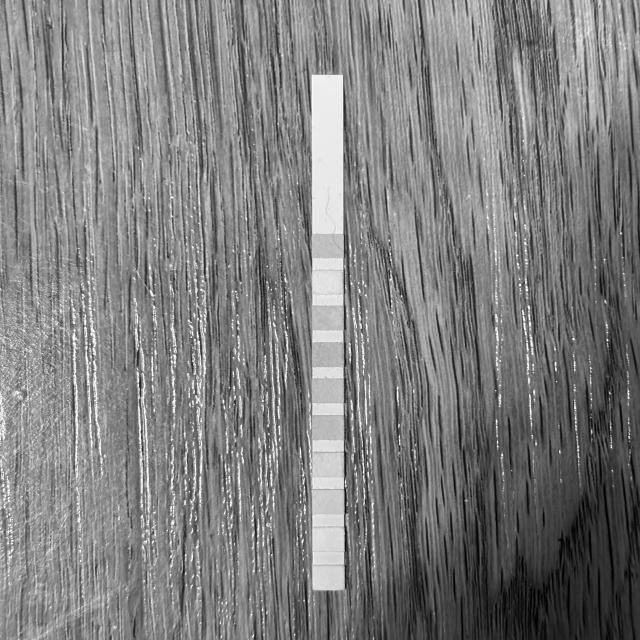Bilirubin: (313, 271, 343, 294)
Blood: (314, 379, 343, 403)
Glucose: (314, 235, 344, 258)
Ketone: (314, 307, 342, 330)
Leukocytes: (313, 566, 344, 590)
Nitrite: (313, 527, 344, 552)
Protein: (313, 453, 343, 477)
SpGravity: (313, 343, 344, 367)
Urobilinogen: (314, 490, 344, 513)
background: (0, 0, 640, 640)
pH: (313, 416, 344, 440)
strip: (312, 75, 345, 590)
